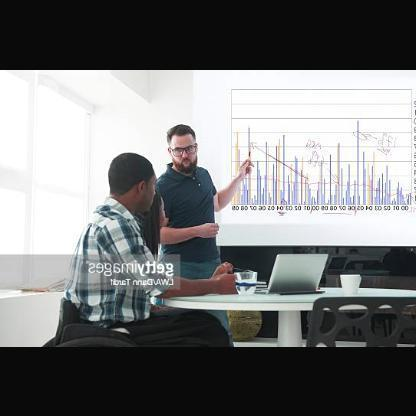person: (49, 151, 238, 345), (155, 124, 254, 284)
